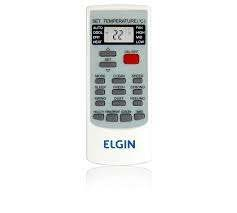remote control: (85, 1, 153, 167)
